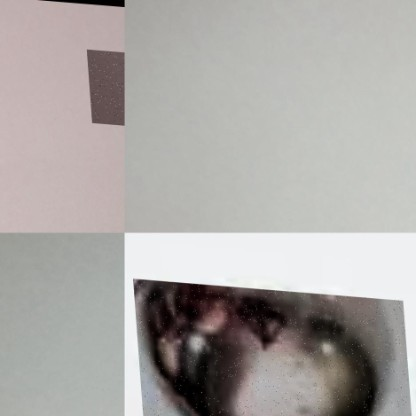ironball: (129, 278, 409, 415)
